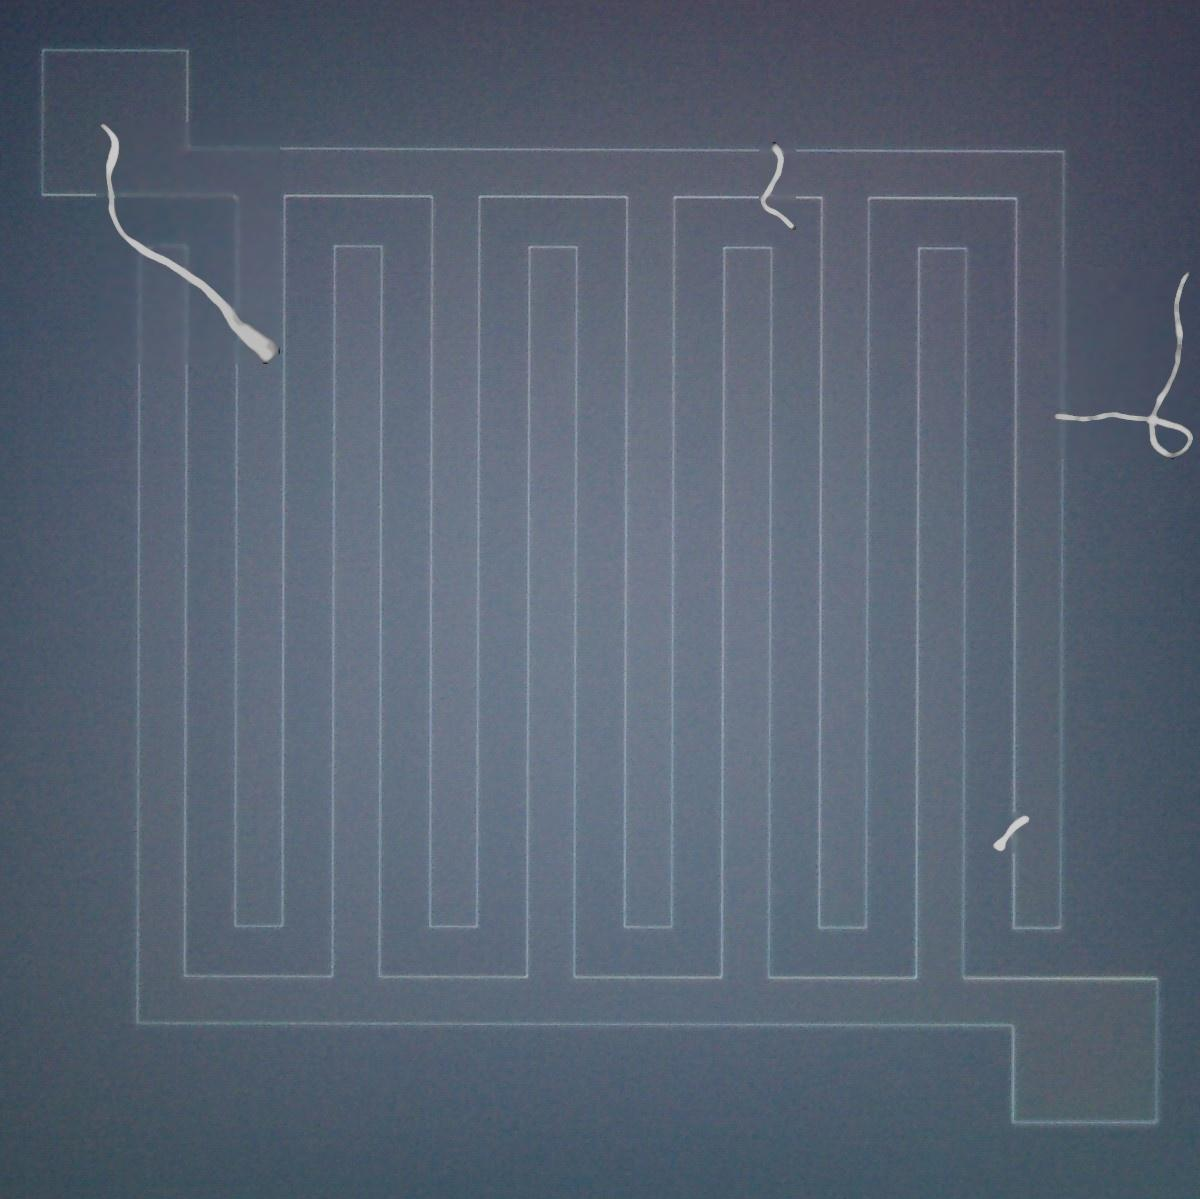foreign: (92, 117, 288, 372), (1046, 267, 1200, 462), (756, 135, 804, 232), (989, 807, 1034, 860)
